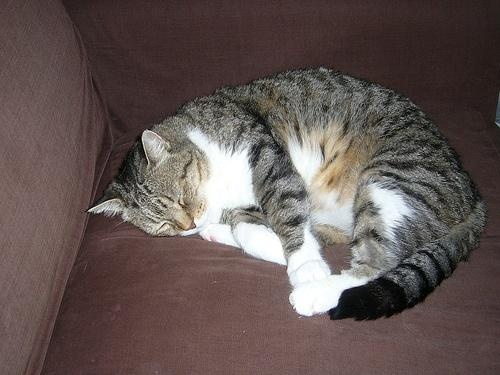cat: (86, 67, 489, 322)
